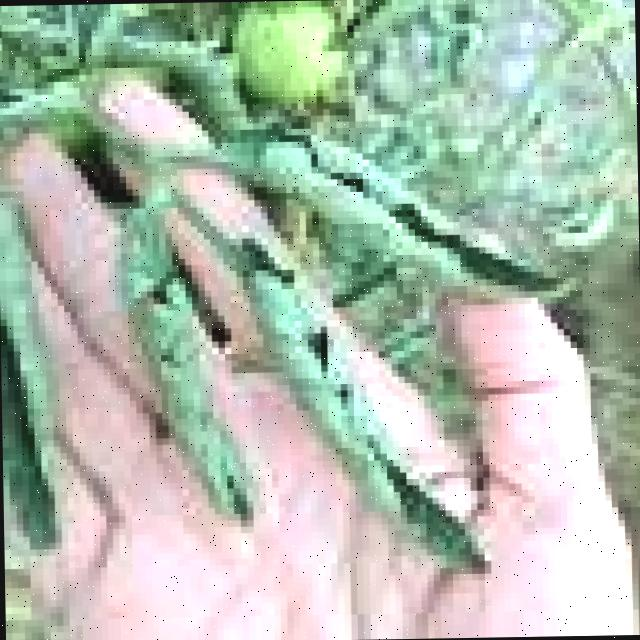leaf curl: (117, 92, 572, 578)
